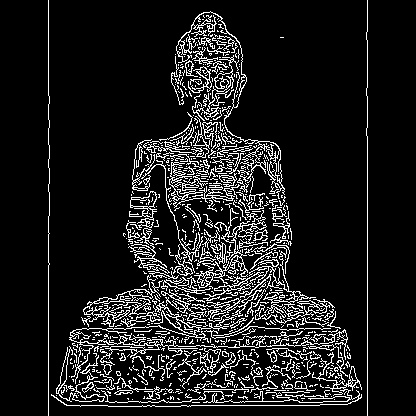buddha-sitting: (209, 208, 304, 391)
